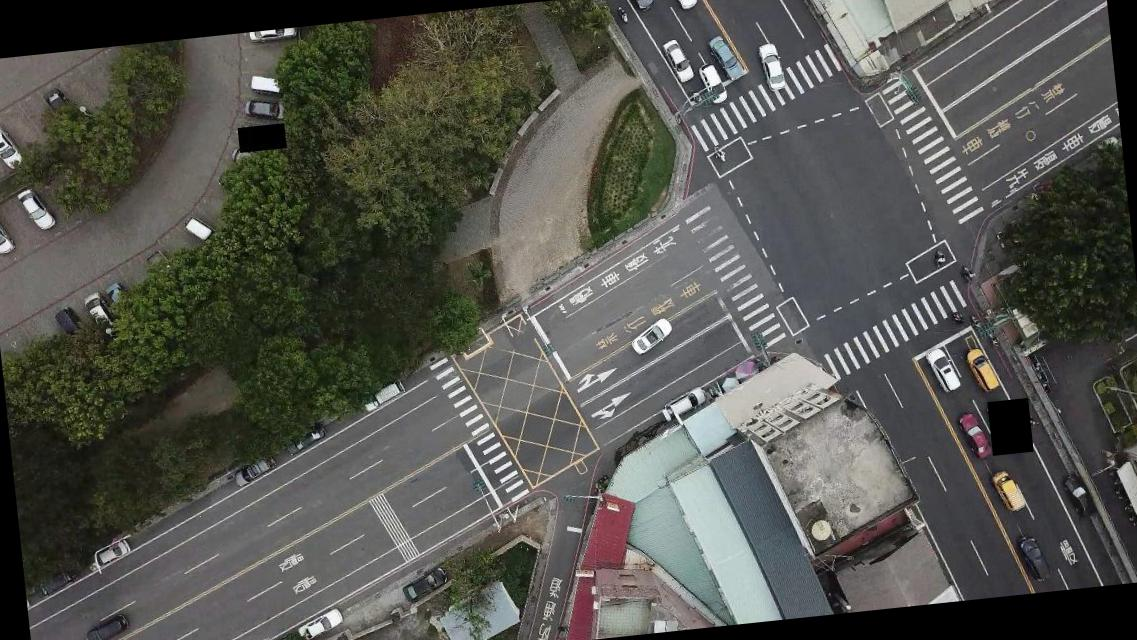vehicle: (956, 408, 996, 460), (1014, 532, 1053, 583), (708, 32, 745, 84), (81, 290, 121, 338), (358, 376, 408, 414), (924, 344, 962, 394), (398, 566, 449, 602), (963, 343, 1000, 392), (18, 185, 56, 232), (991, 466, 1028, 514), (628, 316, 674, 354), (295, 606, 347, 639), (661, 386, 709, 421), (1062, 470, 1096, 519), (661, 36, 694, 86), (32, 564, 80, 598), (282, 421, 328, 455), (242, 94, 292, 125), (230, 456, 278, 488), (42, 86, 77, 128), (82, 612, 134, 639), (756, 44, 786, 90), (698, 62, 729, 105), (0, 122, 25, 173), (90, 538, 132, 568), (183, 216, 219, 247), (248, 72, 290, 97), (102, 278, 130, 310), (246, 27, 297, 43), (58, 306, 81, 339), (0, 212, 15, 259), (671, 0, 701, 15), (628, 0, 658, 12), (251, 632, 300, 639)
